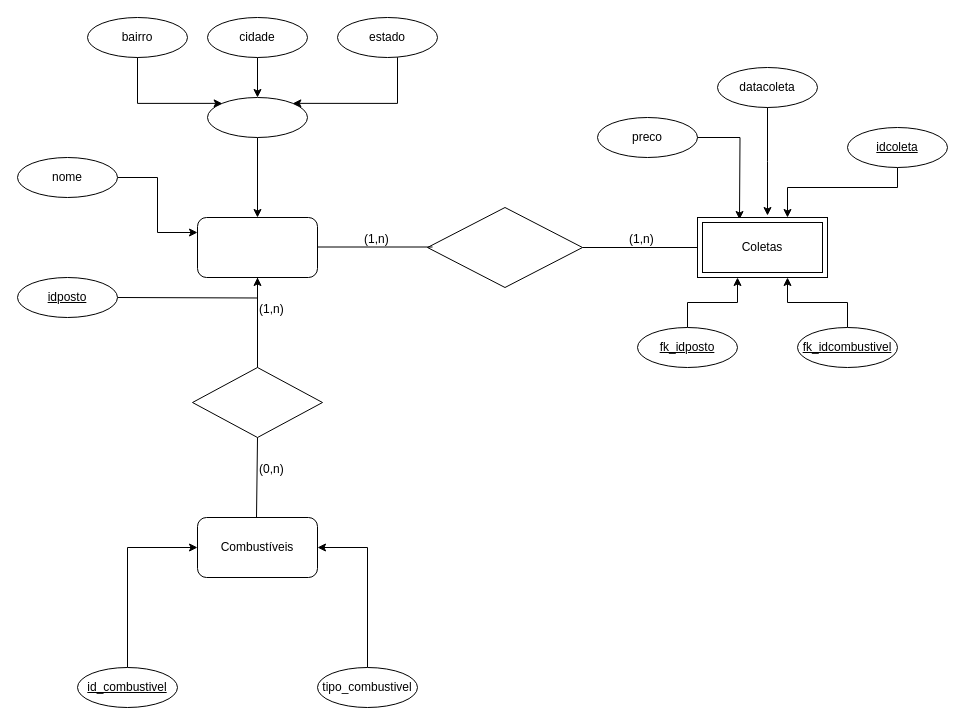
The diagram is 965 pixels wide and 725 high, and some of its shapes have lost their labels. Each missing label, with the centre of its shape:
Coleta dos preços: the point at 504,247
endereço: the point at 257,117
Oferta: the point at 257,402
Posto: the point at 257,247
